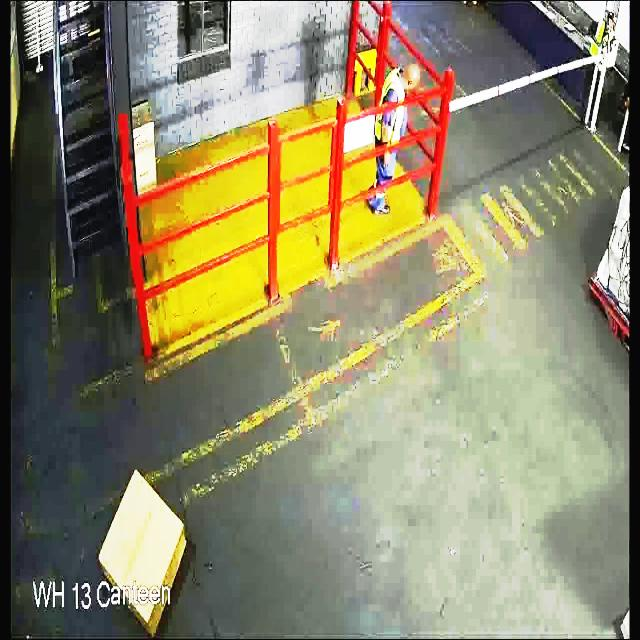Box: (86, 464, 186, 620)
